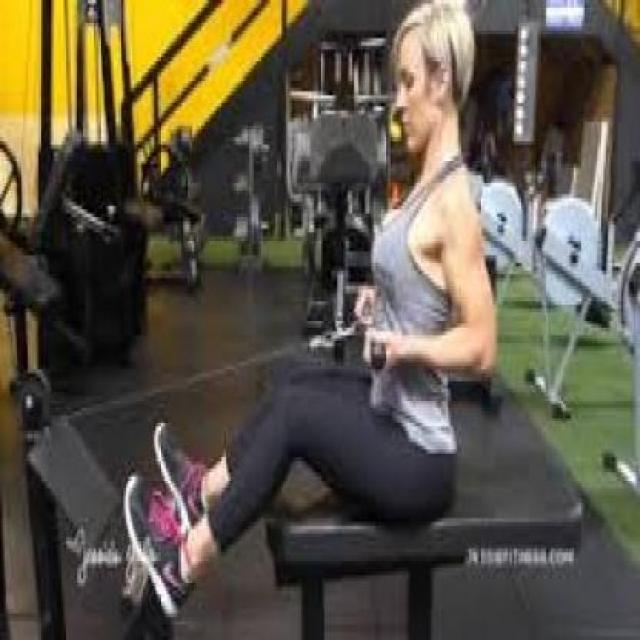Seated Cable Rows: (1, 4, 586, 640)
